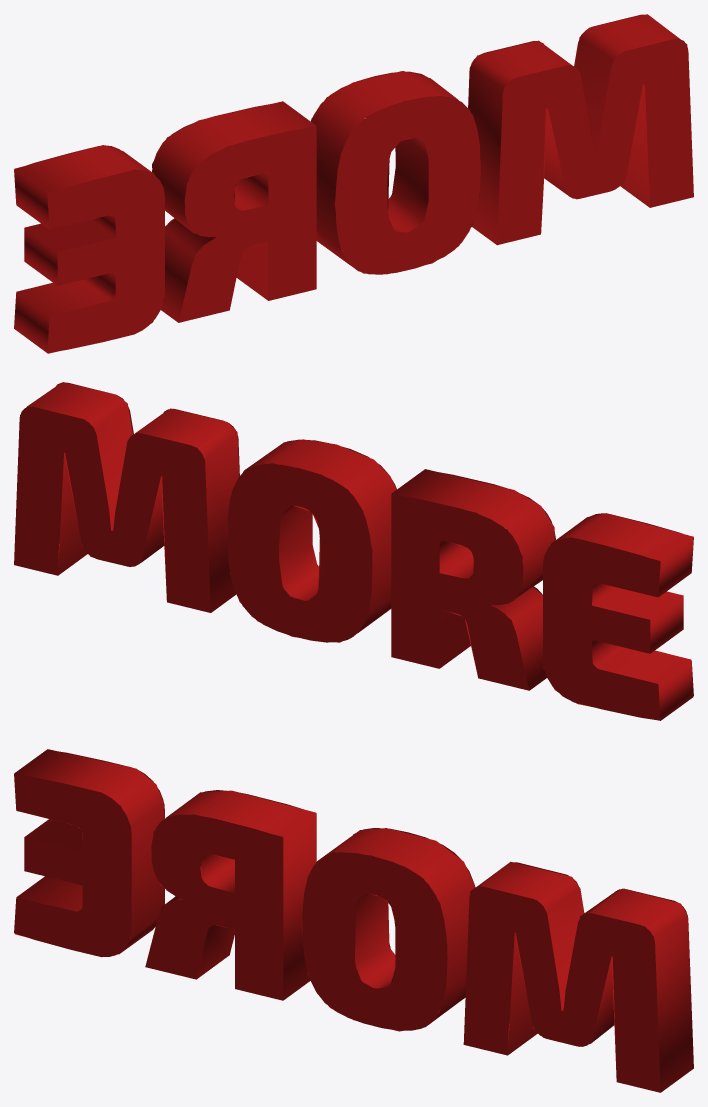
Rendered from more.fbx.
3 views of the same model, one above another, from view 1: azimuth 30°, elevation 25°; view 2: azimuth 150°, elevation 25°; view 3: azimuth 330°, elevation 25° (orthographic).
Parts seen in each view (by area): view 1: Text; view 2: Text; view 3: Text.
Part boxes in pixels (<box>): Text: <box>14,14,693,353</box>; Text: <box>14,382,693,720</box>; Text: <box>14,749,693,1092</box>.
Bounding box in the file's own units: 8.97 × 2.26 × 0.8.
